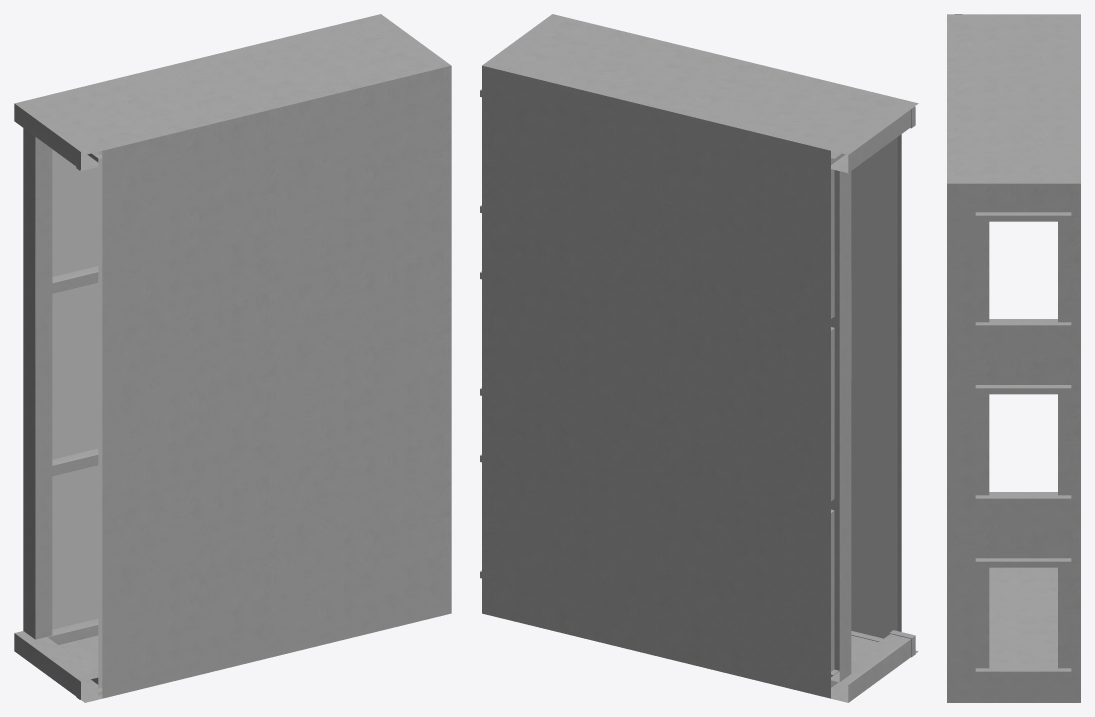
The model's file is ClassroomMesh_1500.fbx.
3 views of the same model, side by side, from view 1: azimuth 30°, elevation 25°; view 2: azimuth 150°, elevation 25°; view 3: azimuth 270°, elevation 25° (orthographic). The views are drawn at different scales.
Parts seen in each view (by area): view 1: SM_ClassroomMesh_01_1500_LOD0; view 2: SM_ClassroomMesh_01_1500_LOD0; view 3: SM_ClassroomMesh_01_1500_LOD0.
Boxes of the visible parts, x1,y1,x2,y2 form: SM_ClassroomMesh_01_1500_LOD0: [14, 14, 451, 702]; SM_ClassroomMesh_01_1500_LOD0: [480, 14, 918, 702]; SM_ClassroomMesh_01_1500_LOD0: [947, 14, 1080, 702].
Bounding box in the file's own units: 10.72 × 15 × 3.5.
